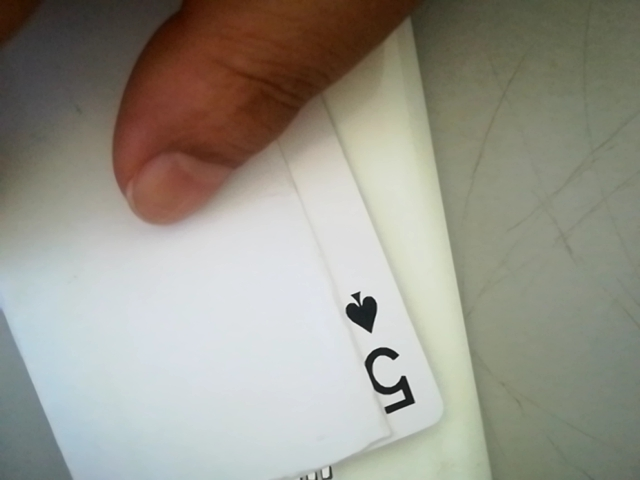ht 5: (335, 284, 444, 427)
